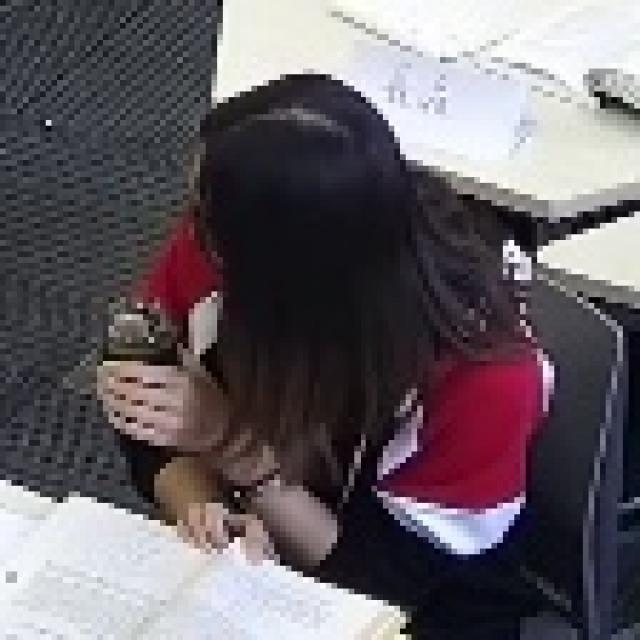drink: (48, 66, 555, 573)
